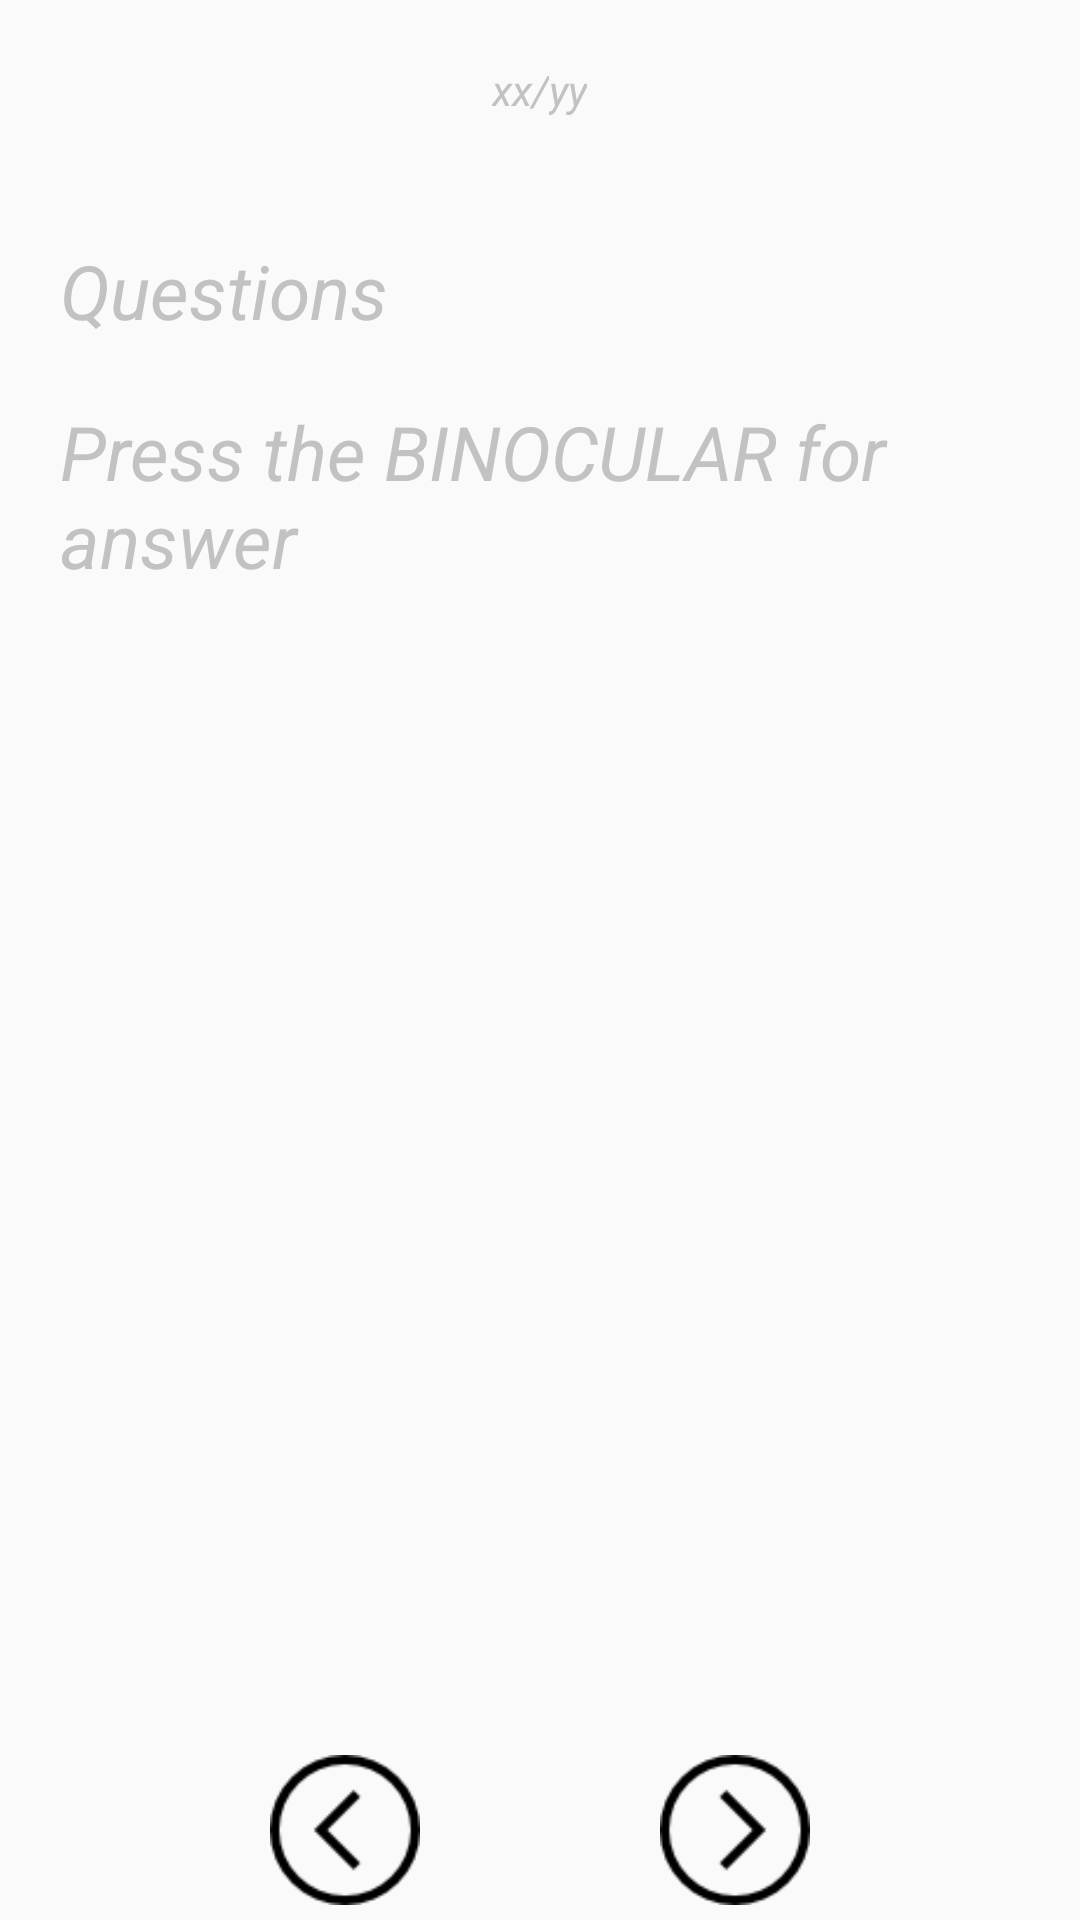

Icons on this 1080px x 1920px Android screen, each with the point to tap as (x=x, y=y):
left: (x=345, y=1830)
right: (x=735, y=1830)
